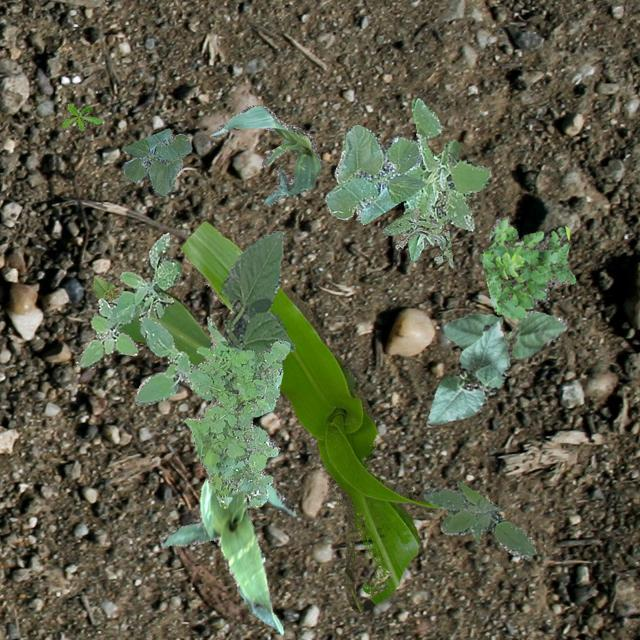crop: (116, 218, 438, 612), (158, 476, 294, 634), (210, 104, 320, 204), (324, 124, 426, 224), (220, 230, 294, 352), (426, 320, 508, 426), (438, 310, 566, 358), (122, 128, 190, 195), (91, 274, 140, 314)
weed: (76, 232, 210, 404), (182, 316, 288, 508), (402, 98, 490, 260), (480, 215, 574, 318), (422, 479, 534, 558), (382, 208, 452, 266), (59, 102, 102, 130)
